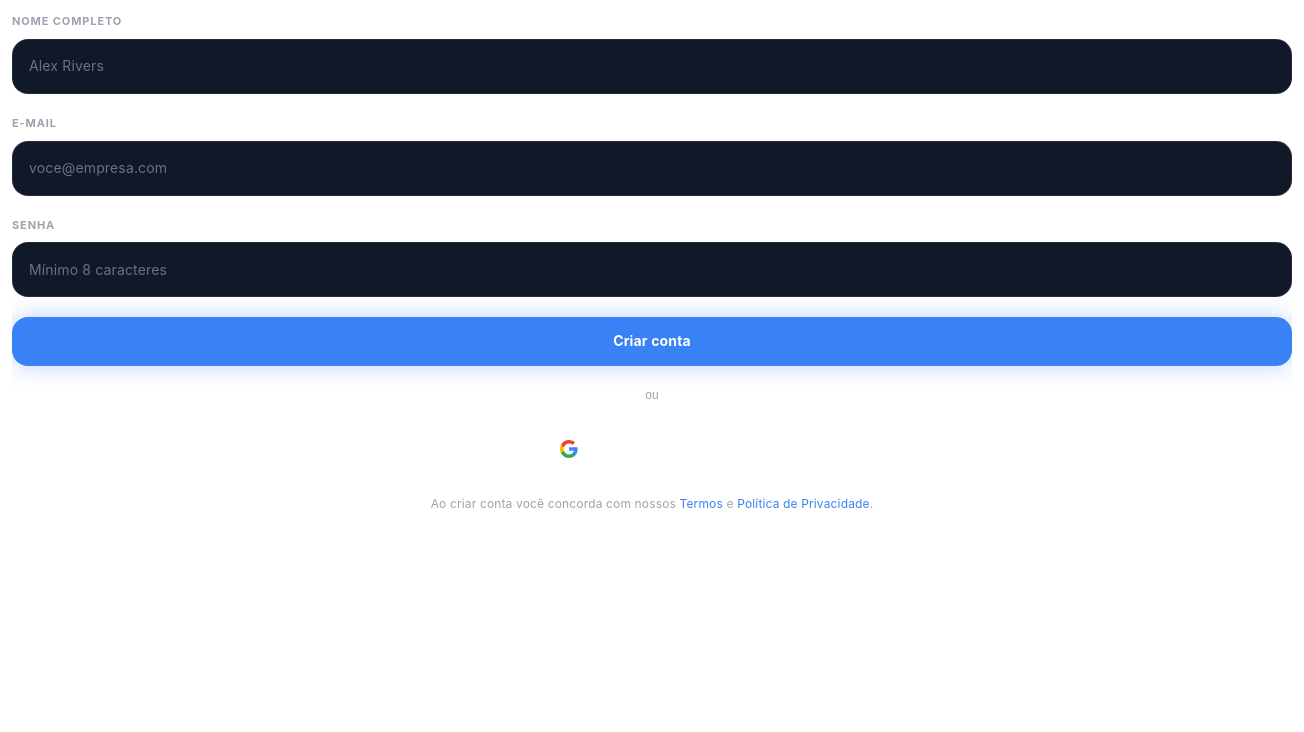
Test: <RegisterForm /> › valida nome curto, e-mail inválido e senha curta
Type "Al" into the field with placeholder "Alex Rivers" at [652, 66], box top-left (29, 52), bottom-right (1275, 81)
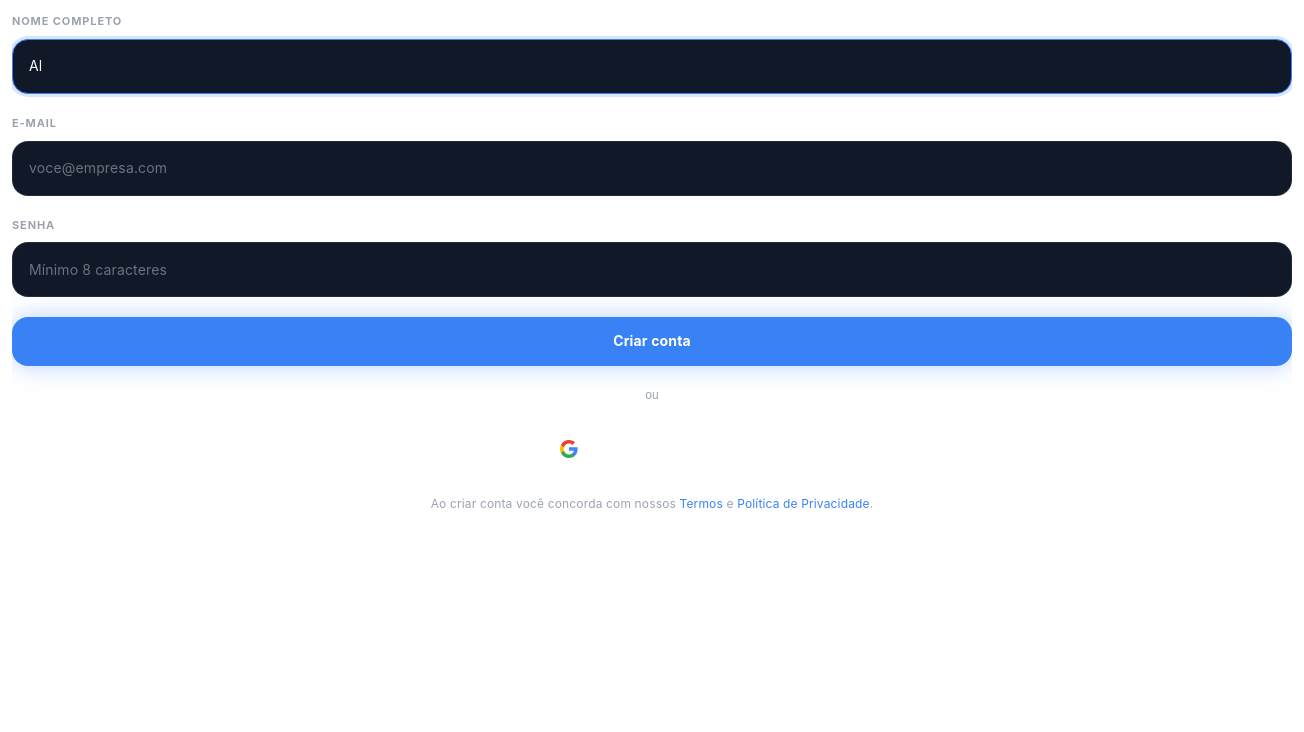
Type "x" into the field with placeholder "voce@empresa.com" at [652, 168], box top-left (29, 154), bottom-right (1275, 183)
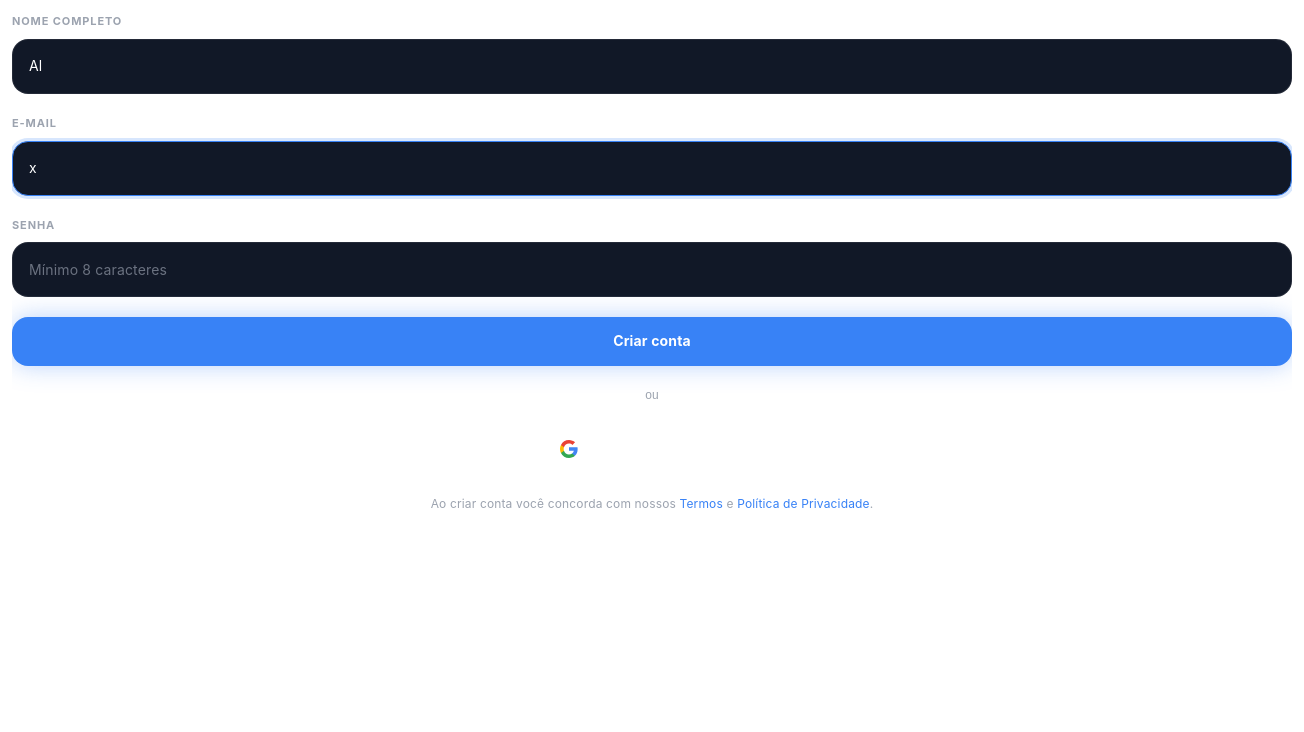
Type "123" into the password field with placeholder "Mínimo 8 caracteres" at [652, 270], box top-left (29, 255), bottom-right (1275, 284)
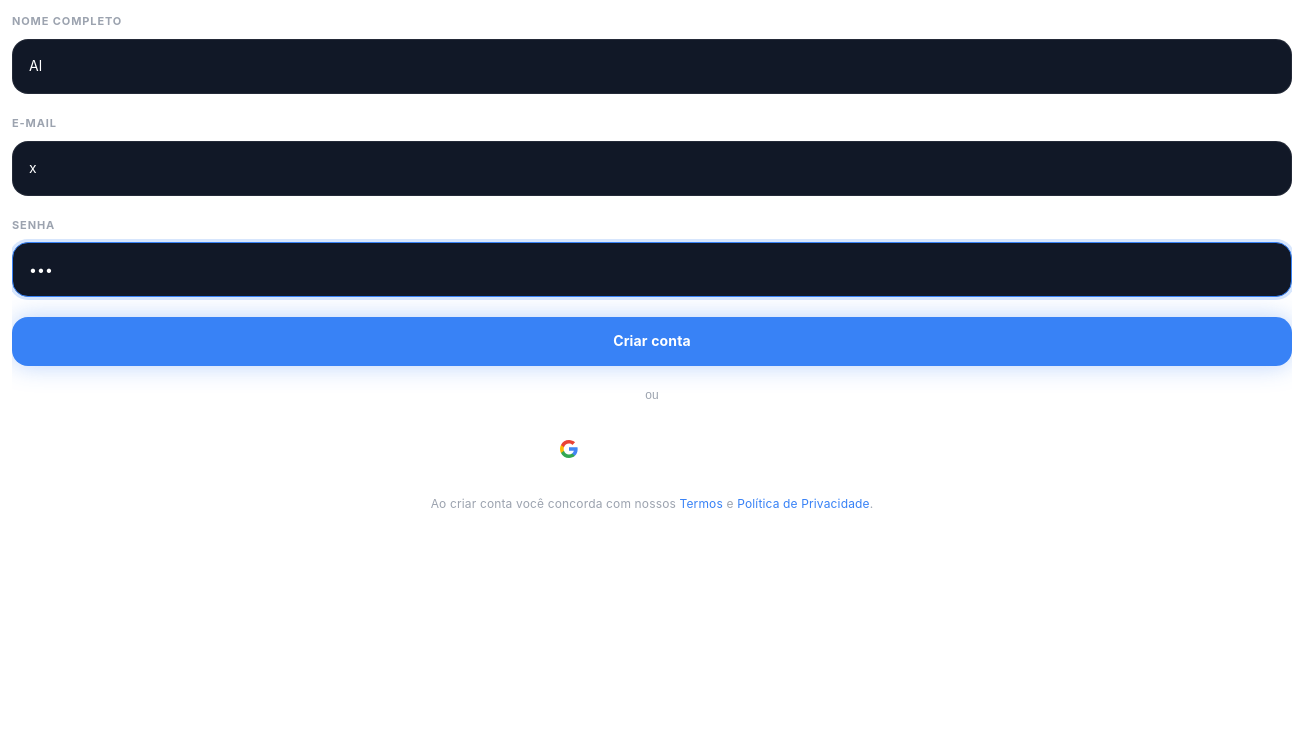
Click the button "Criar conta" at [652, 342], box top-left (12, 317), bottom-right (1292, 366)
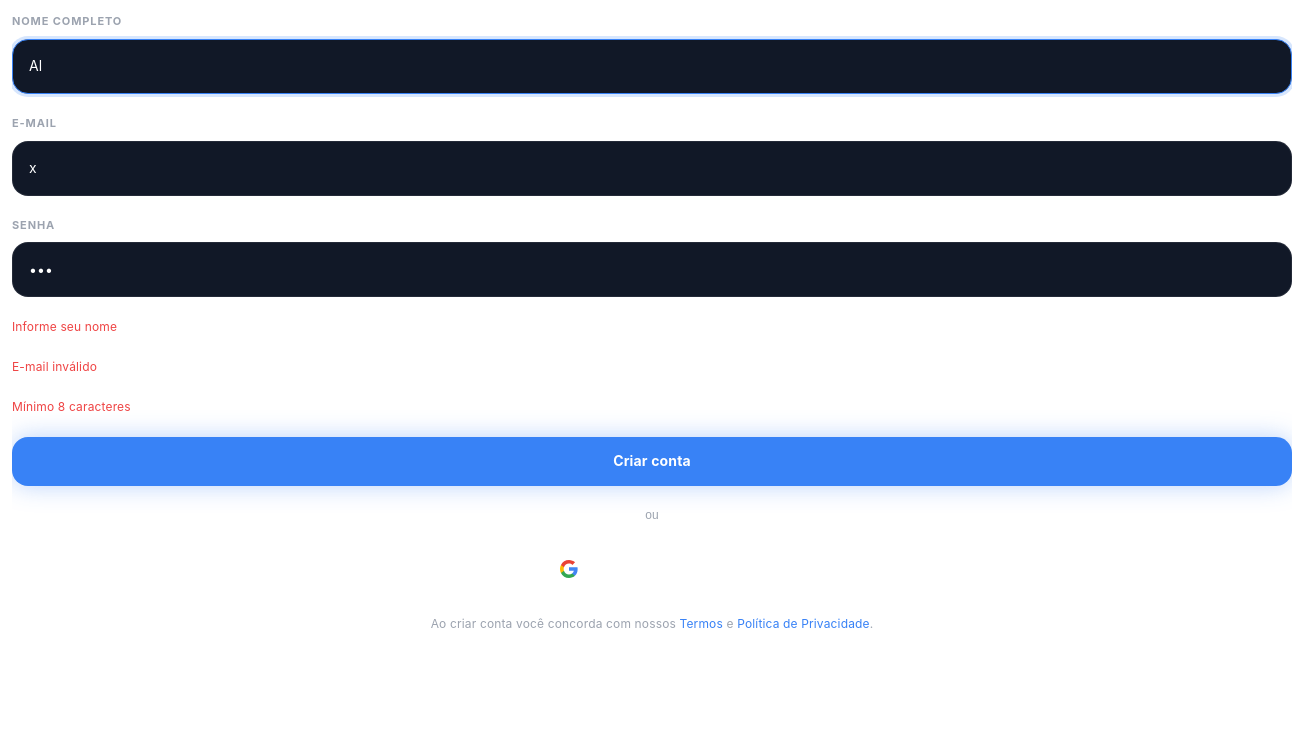
Expected: the text "Informe seu nome" is shown, top-left (12, 319), bottom-right (117, 334)
Expected: the text "E-mail inválido" is shown, top-left (12, 359), bottom-right (97, 374)
Expected: the text "Mínimo 8 caracteres" is shown, top-left (12, 399), bottom-right (131, 414)
